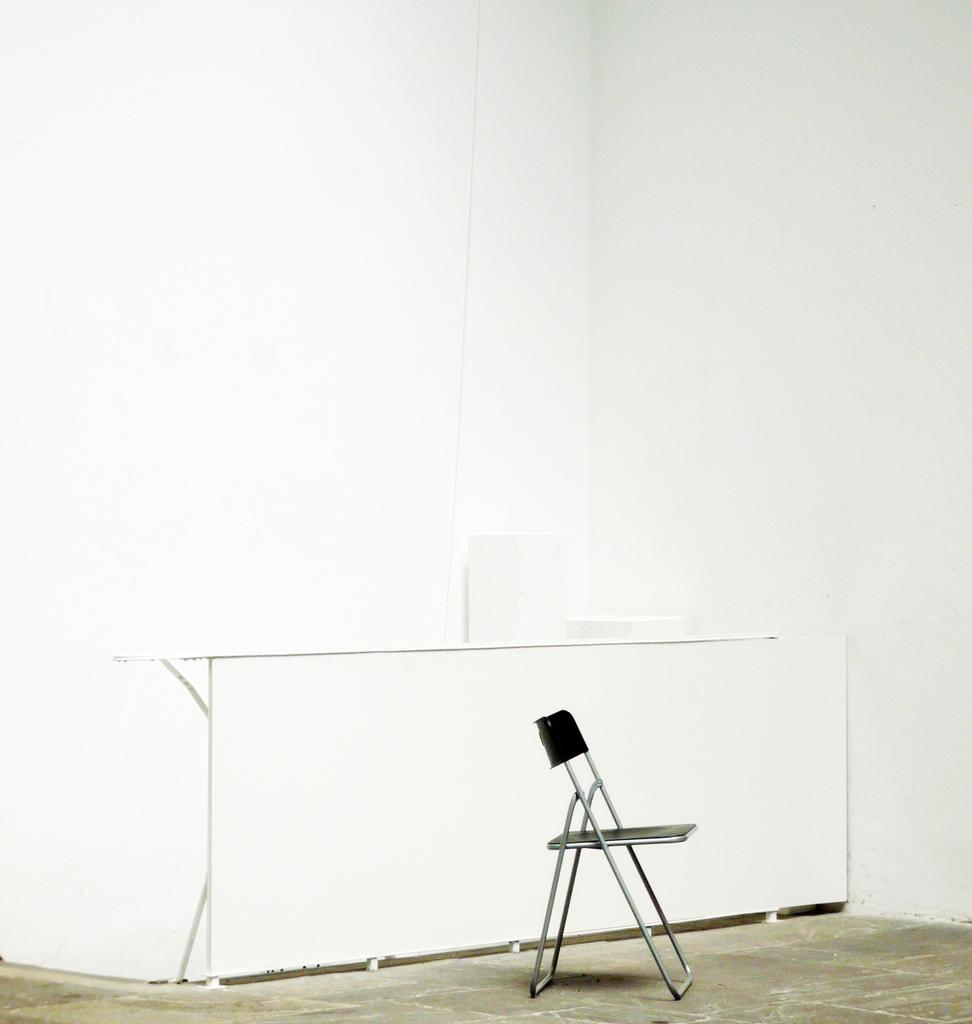Chair: (534, 713, 711, 1012)
